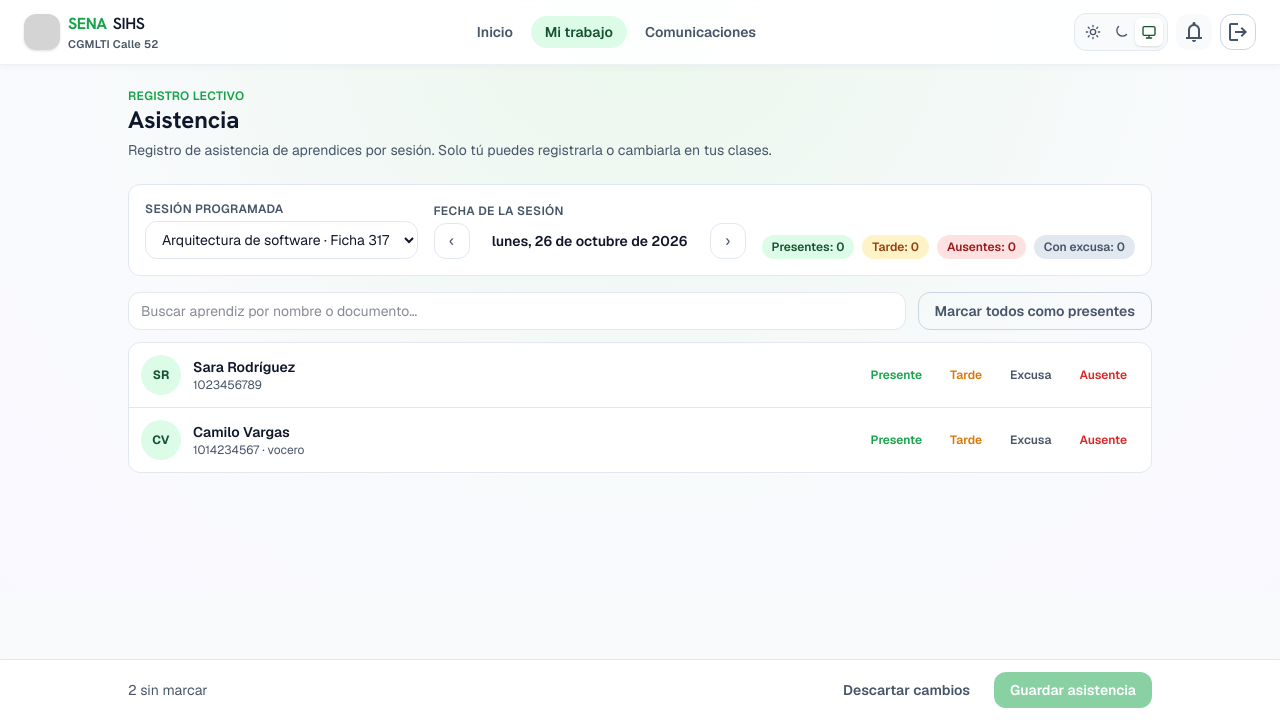
Test: AsistenciaInstructor › "marcar todos como presentes" deja lista la sesión de un golpe
Click the button "Marcar todos como presentes". click: x=1035, y=311
box: top-left (918, 292), bottom-right (1152, 330)
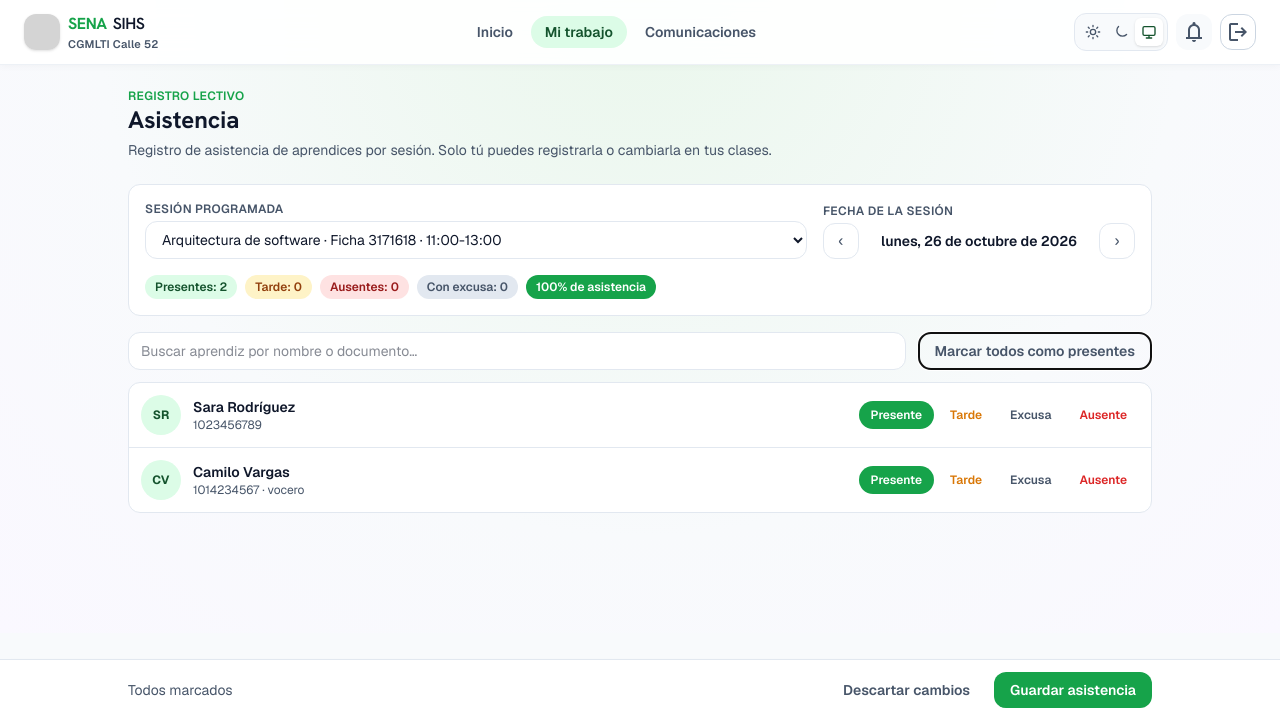
Now the text "Todos marcados" is shown, box top-left (128, 680), bottom-right (233, 700)
Now the text "Presentes: 2" is shown, box top-left (145, 275), bottom-right (237, 299)
